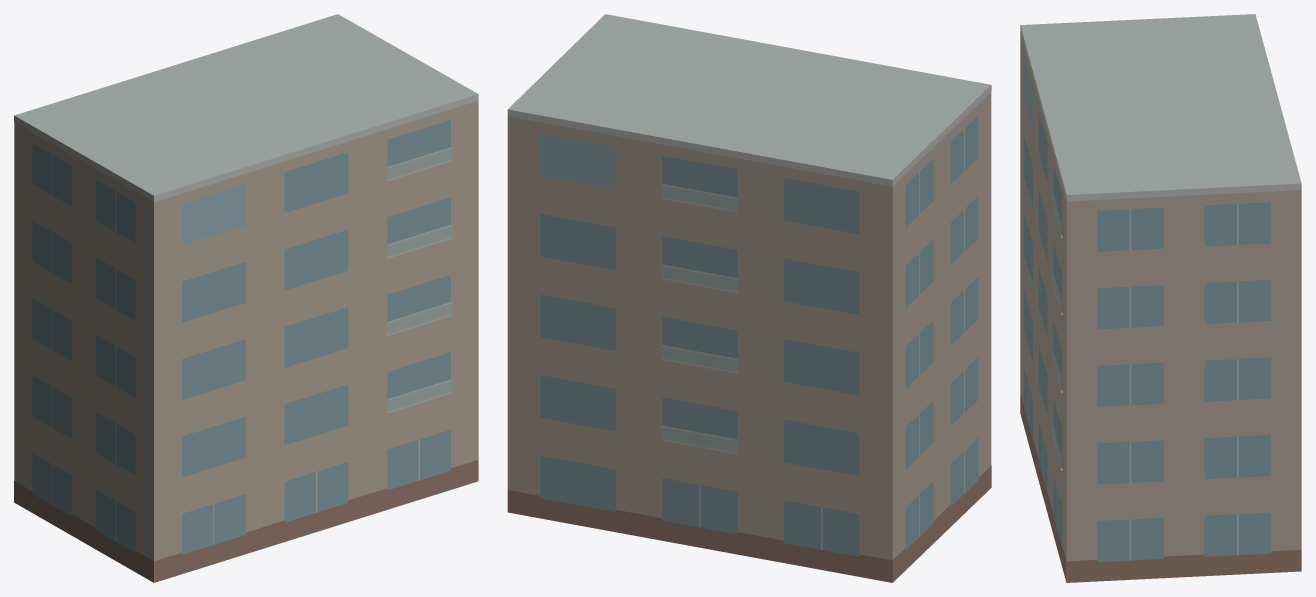
The model's file is survey-upis-32886140.glb.
3 renders of one model, left to right at view 1: azimuth 30°, elevation 25°; view 2: azimuth 150°, elevation 25°; view 3: azimuth 270°, elevation 25°, orthographic. The views are drawn at different scales.
Visible parts, largest first — view 1: survey-upis-32886140.tmp; view 2: survey-upis-32886140.tmp; view 3: survey-upis-32886140.tmp.
Boxes of the visible parts, x1=… form: survey-upis-32886140.tmp: x1=14, y1=14, x2=478, y2=582; survey-upis-32886140.tmp: x1=507, y1=14, x2=991, y2=582; survey-upis-32886140.tmp: x1=1020, y1=14, x2=1301, y2=582.
Size of the model in its own units: 14.68 by 14.65 by 9.64.
